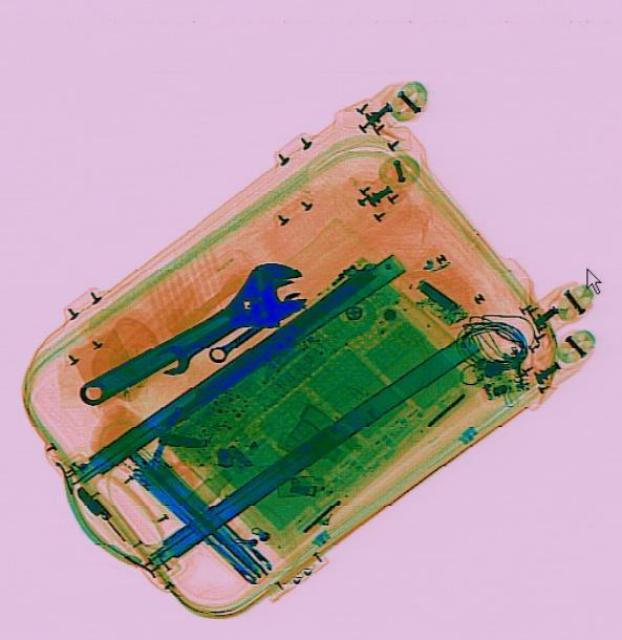Wrench: (61, 246, 319, 428), (202, 285, 307, 363), (150, 304, 251, 378)
